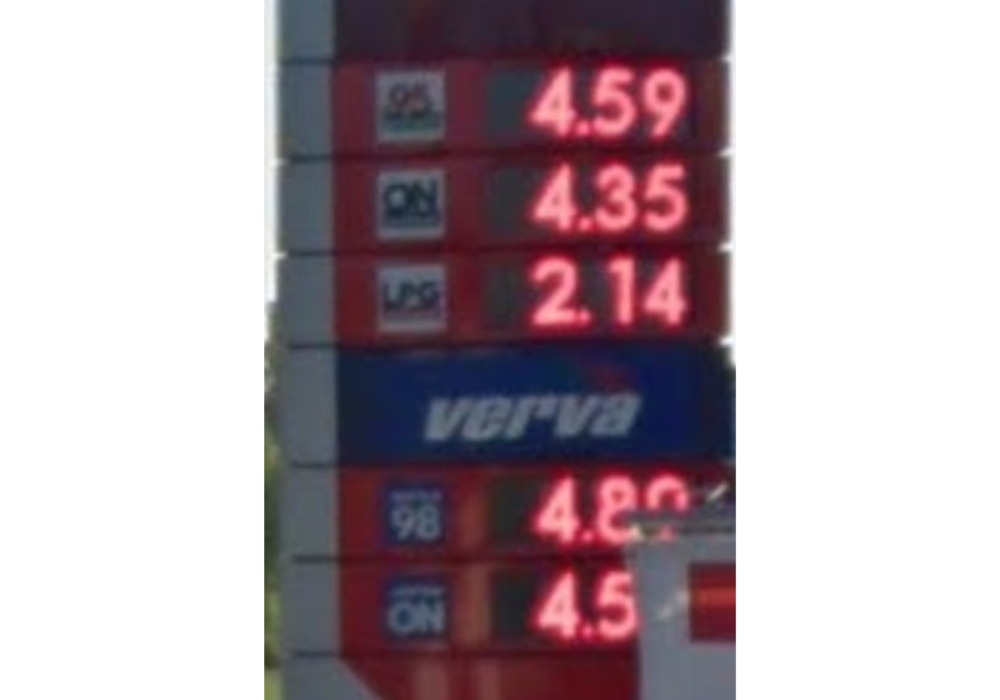LPG: (375, 258, 445, 334)
ON: (376, 169, 445, 239), (379, 573, 449, 639)
PB95: (376, 71, 447, 145)
PB98: (384, 479, 449, 548)
